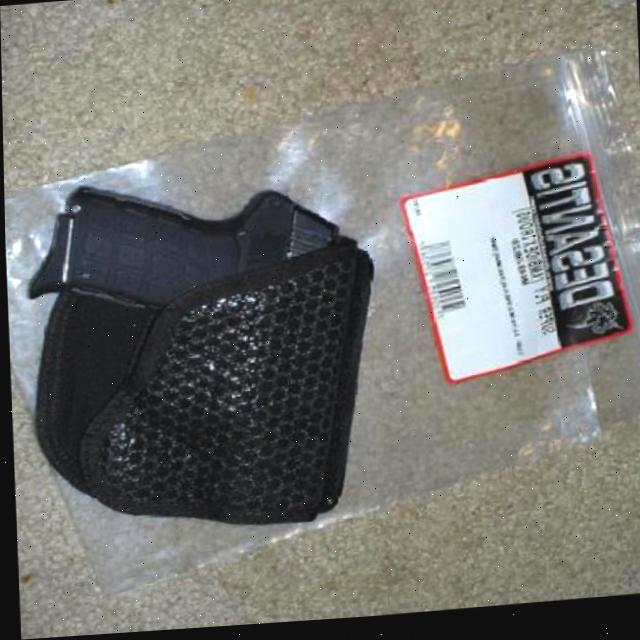gun: (41, 162, 370, 584)
